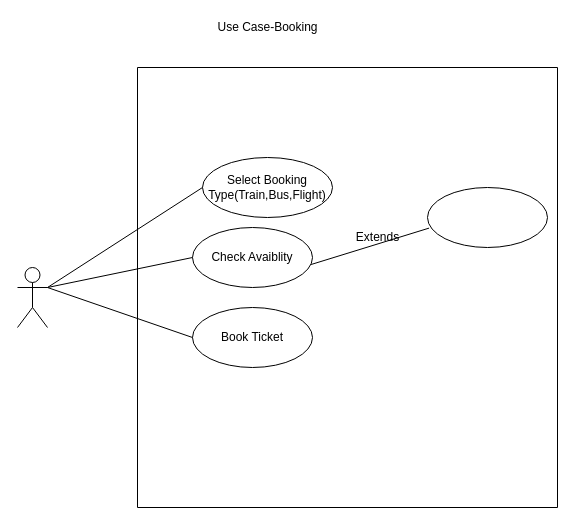
The diagram is 576 pixels wide and 526 high, and some of its shapes have lost their labels. The shapes that lost their labels are listed below. From the top down, each one's box as (x1, y1, x2, y2) in pixels, then its label:
(426, 186, 548, 248): Choose Seat
(16, 266, 48, 328): User
